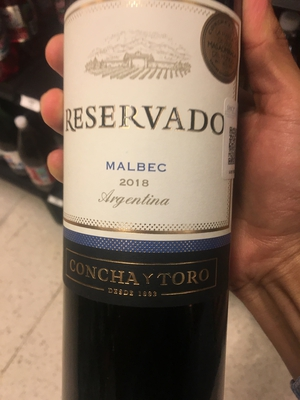reservado malbec: (53, 1, 241, 400)
